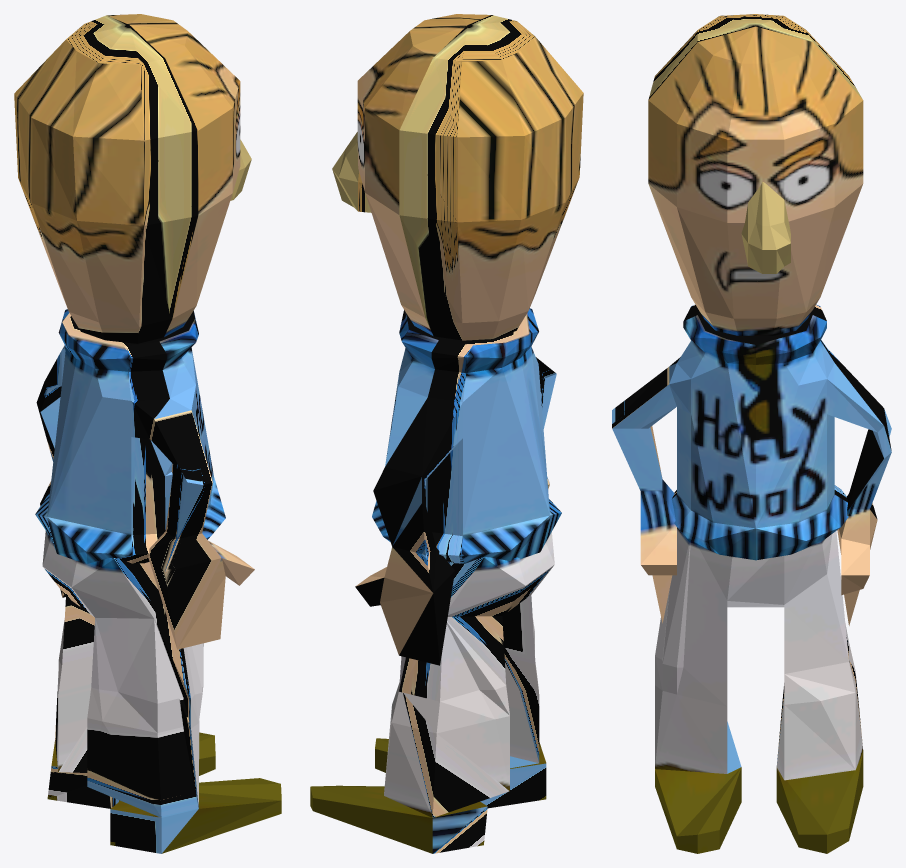
The model's file is PipMenu.glb.
3 renders of one model, left to right at view 1: azimuth 30°, elevation 25°; view 2: azimuth 150°, elevation 25°; view 3: azimuth 270°, elevation 25°, orthographic. The views are drawn at different scales.
Parts seen in each view (by area): view 1: PipMenu; view 2: PipMenu; view 3: PipMenu.
Boxes of the visible parts, left/top/right/bottom form: PipMenu: left=14, top=14, right=281, bottom=853; PipMenu: left=310, top=14, right=583, bottom=853; PipMenu: left=612, top=14, right=891, bottom=853.
Bounding box in the file's own units: 34.24 × 116 × 37.9.
1 material, 1 textured.
